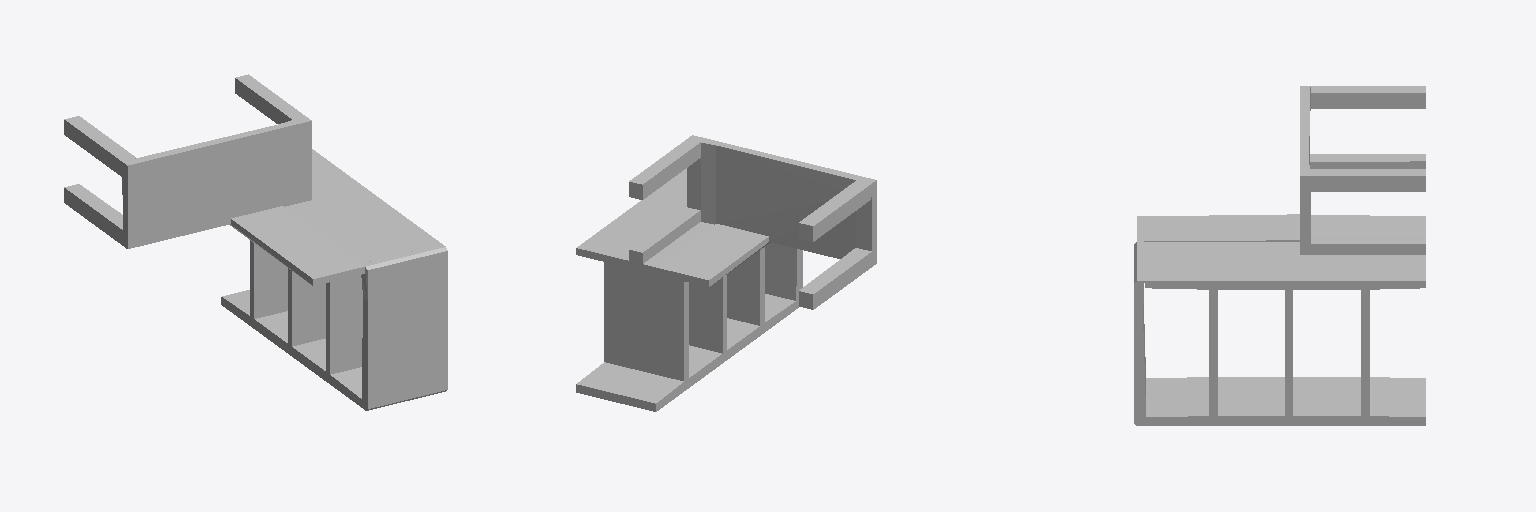
The model's file is lab.obj.
3 views of the same model, side by side, from view 1: azimuth 30°, elevation 25°; view 2: azimuth 150°, elevation 25°; view 3: azimuth 270°, elevation 25° (orthographic).
Visible parts, largest first — view 1: convex_1, convex_6, convex_5, convex_4, convex_11, convex_12, convex_3, convex_8, convex_10, convex_13, convex_2, convex_0 (+1 smaller); view 2: convex_1, convex_13, convex_11, convex_5, convex_4, convex_10, convex_12, convex_2, convex_8, convex_0, convex_6, convex_9 (+1 smaller); view 3: convex_11, convex_5, convex_4, convex_0, convex_9, convex_7, convex_2, convex_6, convex_12, convex_13, convex_8, convex_10 (+2 smaller).
Part boxes in pixels (bbox=[...]): convex_1: bbox=[122, 124, 282, 244]; convex_6: bbox=[362, 282, 447, 410]; convex_5: bbox=[286, 149, 441, 263]; convex_4: bbox=[230, 206, 364, 285]; convex_11: bbox=[221, 290, 361, 407]; convex_12: bbox=[326, 275, 362, 374]; convex_3: bbox=[361, 244, 447, 300]; convex_8: bbox=[279, 117, 311, 206]; convex_10: bbox=[288, 268, 325, 346]; convex_13: bbox=[250, 240, 287, 318]; convex_2: bbox=[64, 184, 143, 248]; convex_0: bbox=[64, 116, 135, 176]; convex_1: bbox=[716, 142, 876, 258]; convex_13: bbox=[604, 262, 688, 381]; convex_11: bbox=[576, 294, 795, 411]; convex_5: bbox=[576, 168, 713, 274]; convex_4: bbox=[658, 224, 770, 286]; convex_10: bbox=[689, 275, 726, 353]; convex_12: bbox=[727, 247, 764, 325]; convex_2: bbox=[799, 248, 876, 309]; convex_8: bbox=[687, 135, 719, 224]; convex_0: bbox=[799, 180, 870, 241]; convex_6: bbox=[765, 243, 802, 308]; convex_9: bbox=[629, 139, 700, 199]; convex_11: bbox=[1146, 377, 1425, 425]; convex_5: bbox=[1145, 242, 1425, 289]; convex_4: bbox=[1137, 214, 1425, 241]; convex_0: bbox=[1311, 86, 1425, 108]; convex_9: bbox=[1311, 169, 1425, 191]; convex_7: bbox=[1311, 237, 1425, 254]; convex_2: bbox=[1310, 154, 1425, 168]; convex_6: bbox=[1134, 305, 1145, 425]; convex_12: bbox=[1209, 290, 1217, 415]; convex_13: bbox=[1361, 290, 1369, 415]; convex_8: bbox=[1300, 162, 1310, 254]; convex_10: bbox=[1285, 290, 1292, 415].
Size of the model in its own units: 1.81 by 1.64 by 1.94.